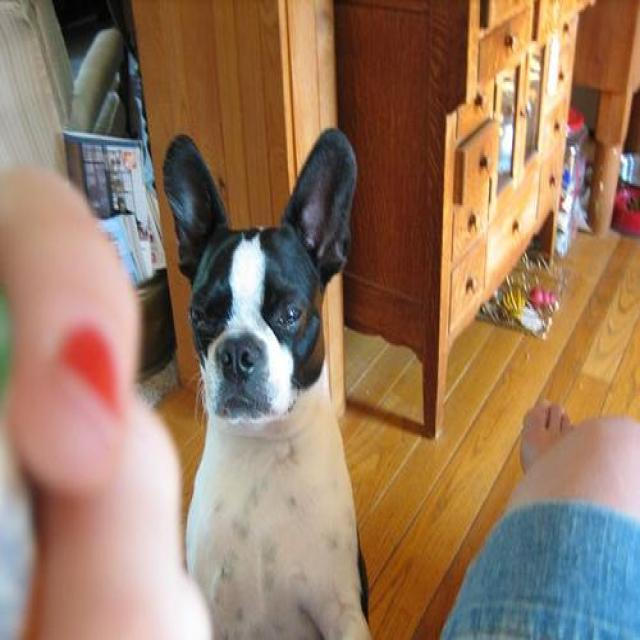toy_terrier: (162, 126, 372, 638)
